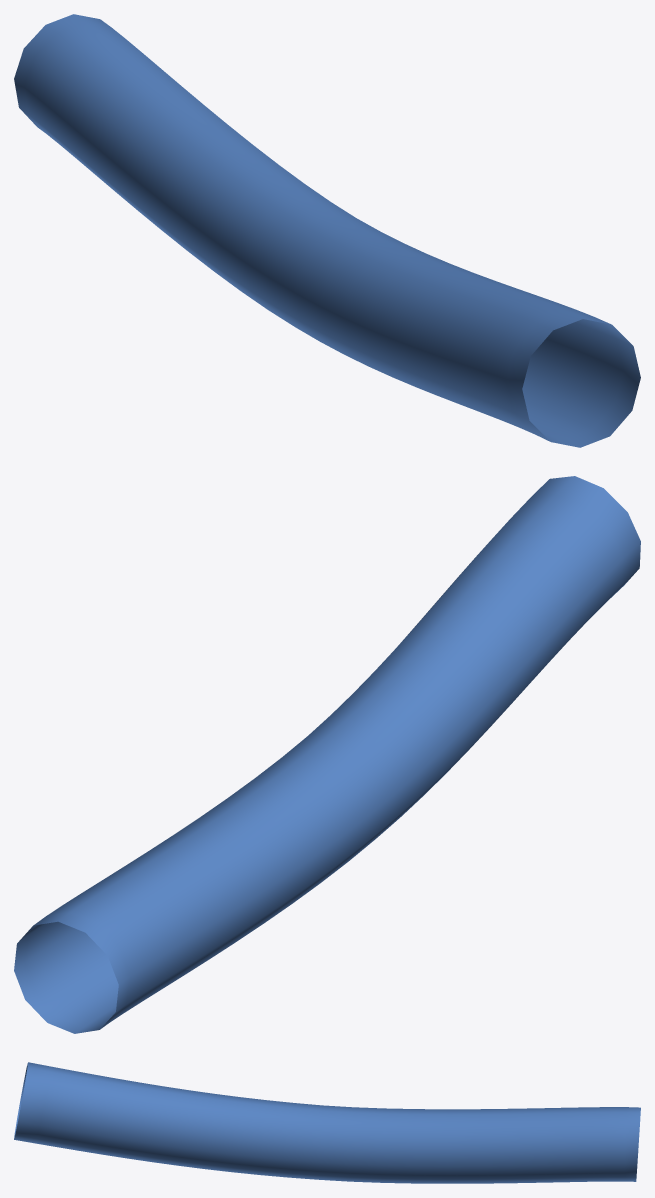
3 renders of one model, top to bottom at view 1: azimuth 30°, elevation 25°; view 2: azimuth 150°, elevation 25°; view 3: azimuth 270°, elevation 25°, orthographic. The views are drawn at different scales.
Parts seen in each view (by area): view 1: 下腔静脉腹部; view 2: 下腔静脉腹部; view 3: 下腔静脉腹部.
Boxes of the visible parts, left/top/right/bottom form: 下腔静脉腹部: left=14, top=14, right=640, bottom=447; 下腔静脉腹部: left=14, top=476, right=640, bottom=1033; 下腔静脉腹部: left=14, top=1062, right=640, bottom=1183.
Size of the model in its own units: 0.0273 by 0.0425 by 0.2107.
